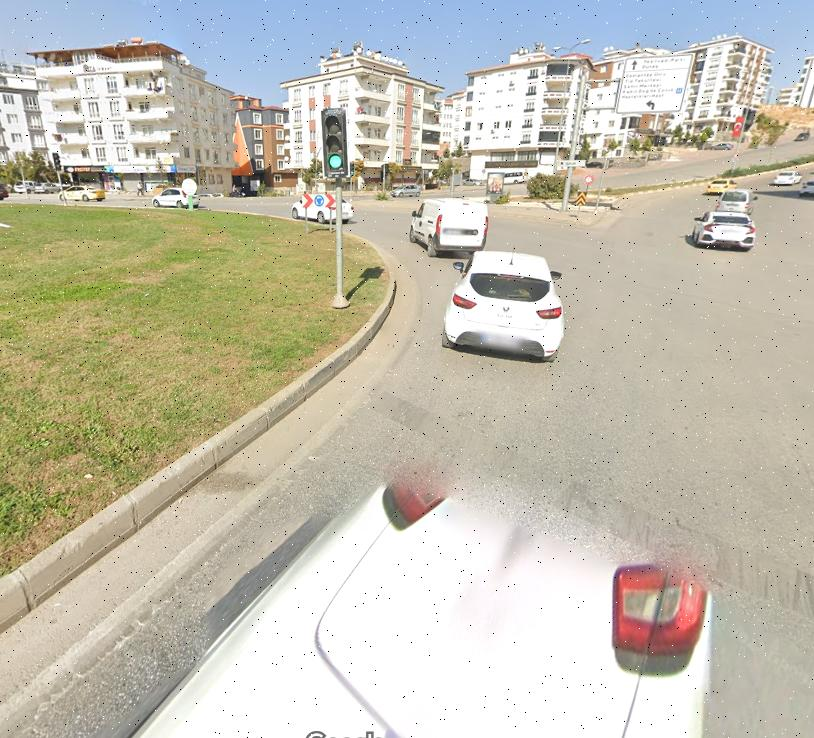greenlight: (322, 111, 348, 177)
